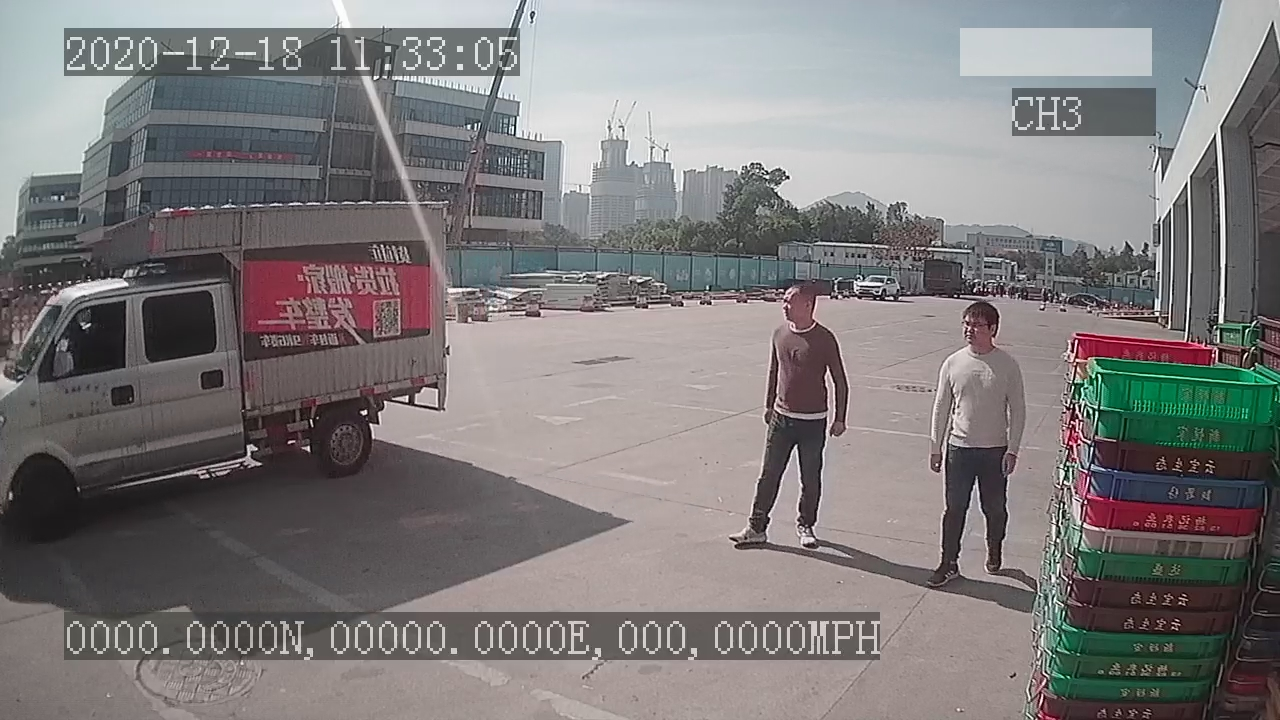person: (729, 279, 853, 552), (925, 292, 1024, 587)
